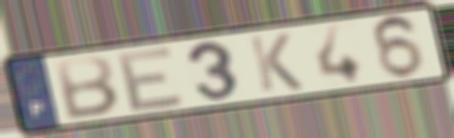3: (182, 39, 245, 103)
4: (316, 22, 368, 87)
6: (371, 13, 431, 84)
B: (52, 54, 122, 122)
E: (115, 43, 188, 115)
K: (245, 31, 306, 95)
